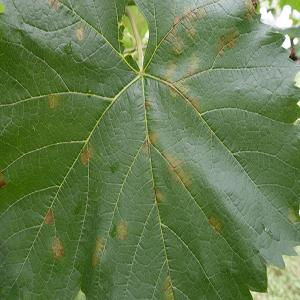Folha: (0, 0, 299, 299)
Fungo: (162, 148, 196, 192), (216, 28, 238, 56), (92, 236, 104, 268), (184, 52, 200, 76), (50, 236, 64, 261), (162, 271, 174, 299), (164, 59, 178, 82), (208, 214, 222, 235), (243, 0, 257, 21), (81, 142, 93, 165), (116, 220, 128, 241), (172, 36, 184, 56), (46, 93, 60, 109), (94, 236, 104, 254), (154, 186, 164, 202), (46, 0, 61, 10), (44, 207, 53, 223), (148, 130, 158, 144), (74, 288, 86, 299), (76, 25, 84, 40)
